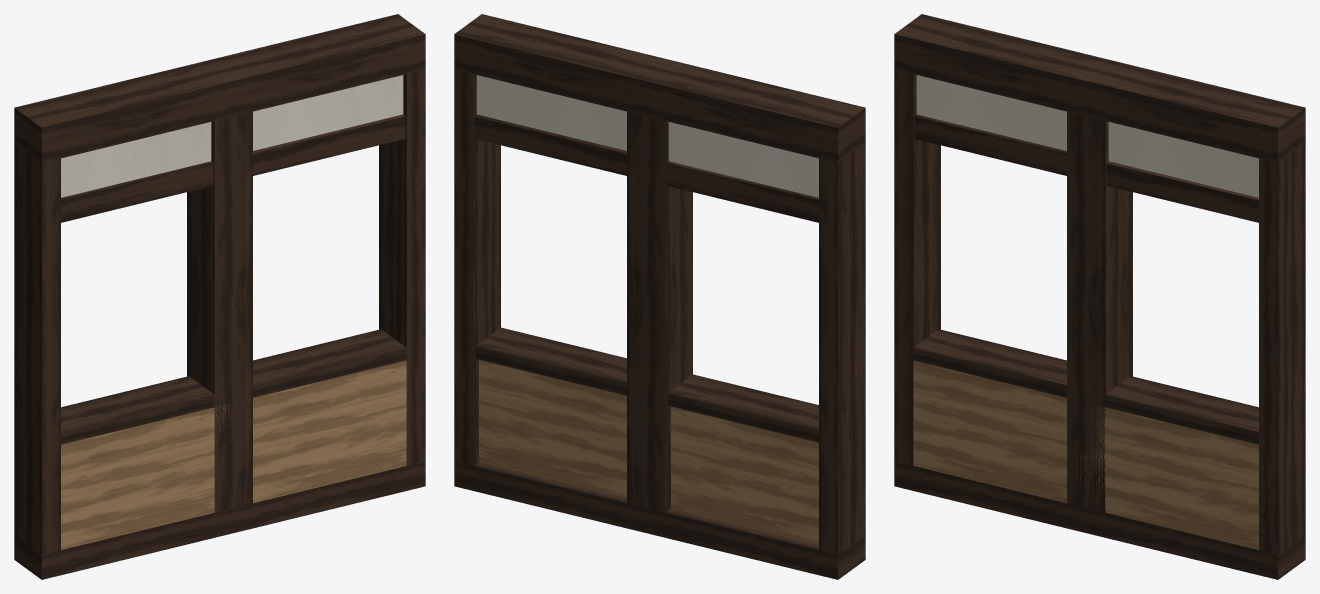
The model's file is HO_Wall_Front_OpenShop_8.fbx.
3 renders of one model, left to right at view 1: azimuth 30°, elevation 25°; view 2: azimuth 150°, elevation 25°; view 3: azimuth 330°, elevation 25°, orthographic.
Visible parts, largest first — view 1: HO_Wall_Front_OpenShop_8__Timber_Dark, HO_Wall_Front_OpenShop_8__Timber_Light, HO_Wall_Front_OpenShop_8__Plaster_White; view 2: HO_Wall_Front_OpenShop_8__Timber_Dark, HO_Wall_Front_OpenShop_8__Timber_Light, HO_Wall_Front_OpenShop_8__Plaster_White; view 3: HO_Wall_Front_OpenShop_8__Timber_Dark, HO_Wall_Front_OpenShop_8__Timber_Light, HO_Wall_Front_OpenShop_8__Plaster_White.
Boxes of the visible parts, left/top/right/bottom form: HO_Wall_Front_OpenShop_8__Timber_Dark: left=14, top=14, right=425, bottom=579; HO_Wall_Front_OpenShop_8__Timber_Light: left=61, top=360, right=406, bottom=549; HO_Wall_Front_OpenShop_8__Plaster_White: left=61, top=75, right=403, bottom=197; HO_Wall_Front_OpenShop_8__Timber_Dark: left=454, top=14, right=865, bottom=579; HO_Wall_Front_OpenShop_8__Timber_Light: left=479, top=359, right=818, bottom=544; HO_Wall_Front_OpenShop_8__Plaster_White: left=476, top=75, right=818, bottom=197; HO_Wall_Front_OpenShop_8__Timber_Dark: left=894, top=14, right=1305, bottom=579; HO_Wall_Front_OpenShop_8__Timber_Light: left=913, top=360, right=1258, bottom=549; HO_Wall_Front_OpenShop_8__Plaster_White: left=916, top=75, right=1258, bottom=197.
Bounding box in the file's own units: 8 × 9 × 1.
